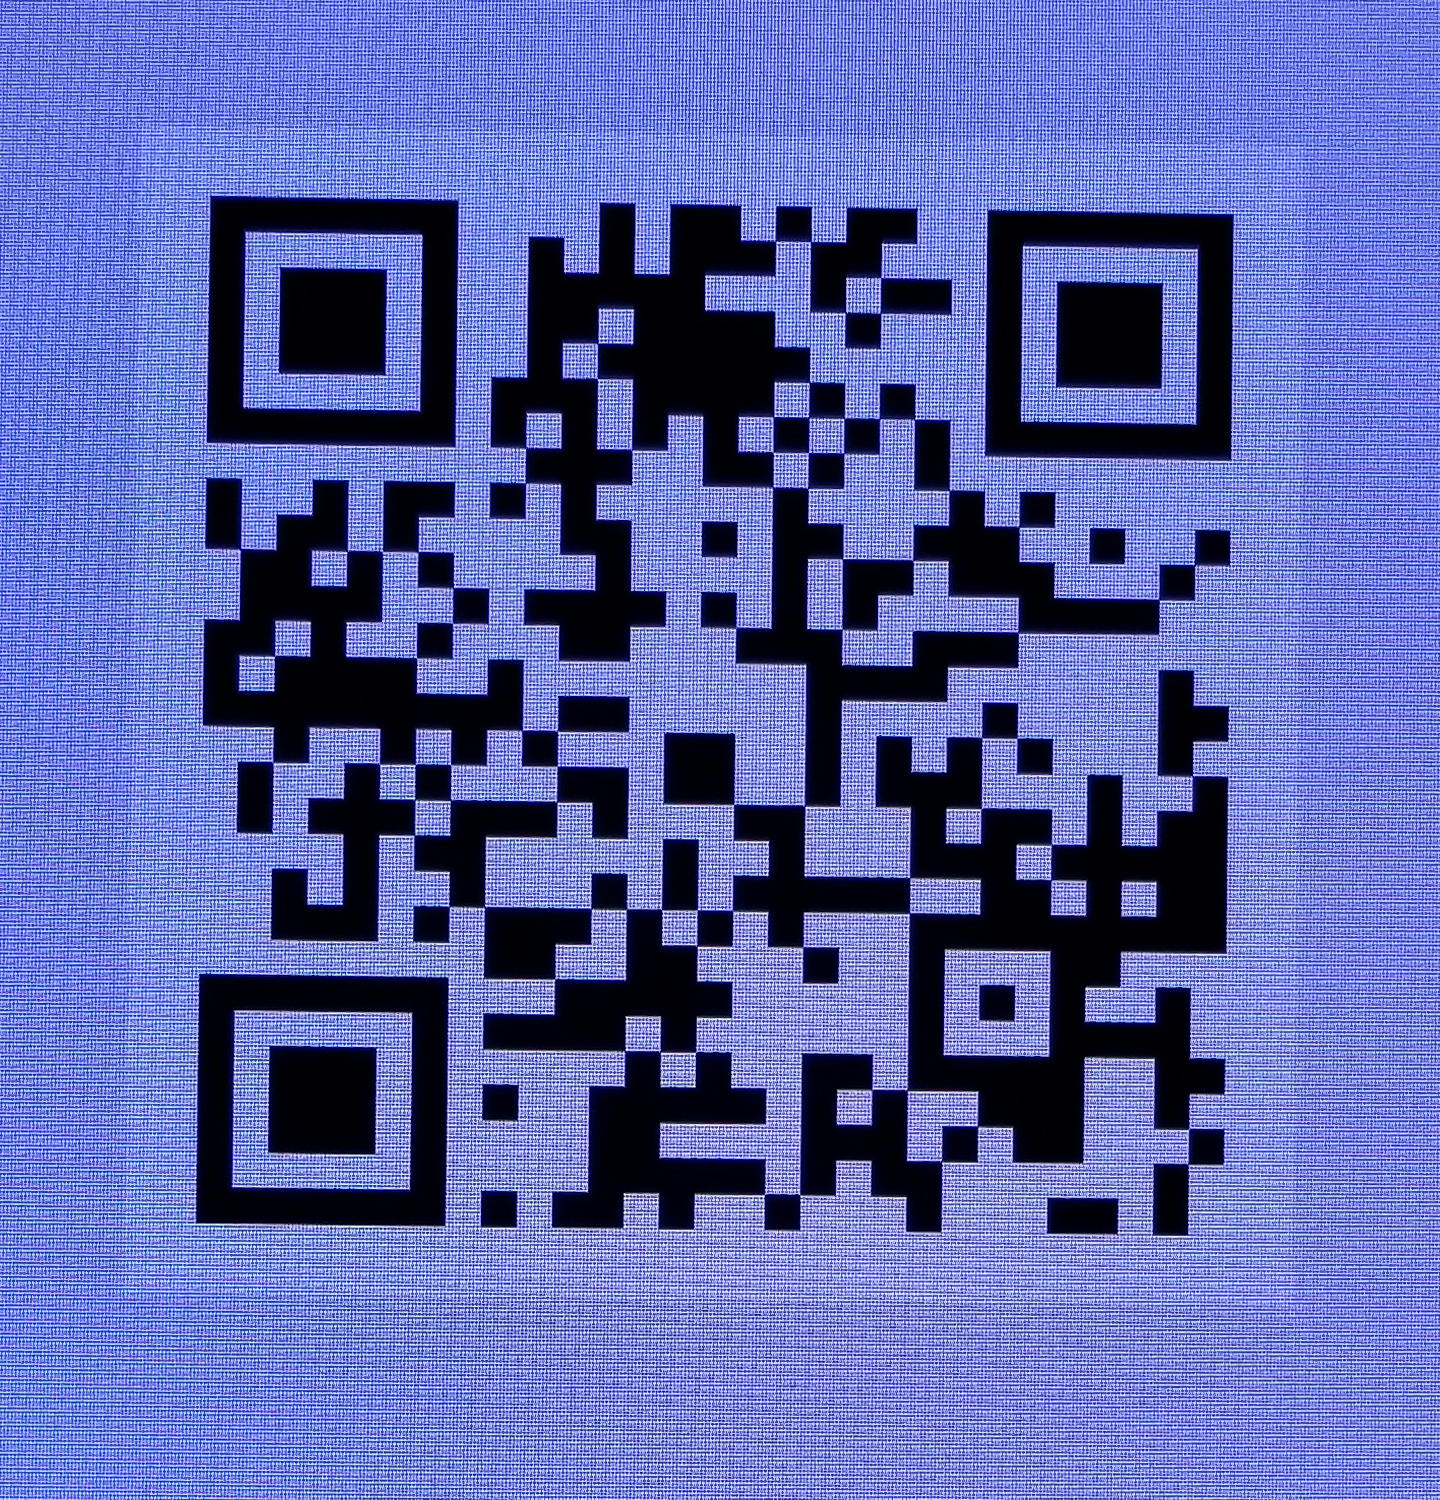QR_CODE: (142, 119, 1298, 1298)
